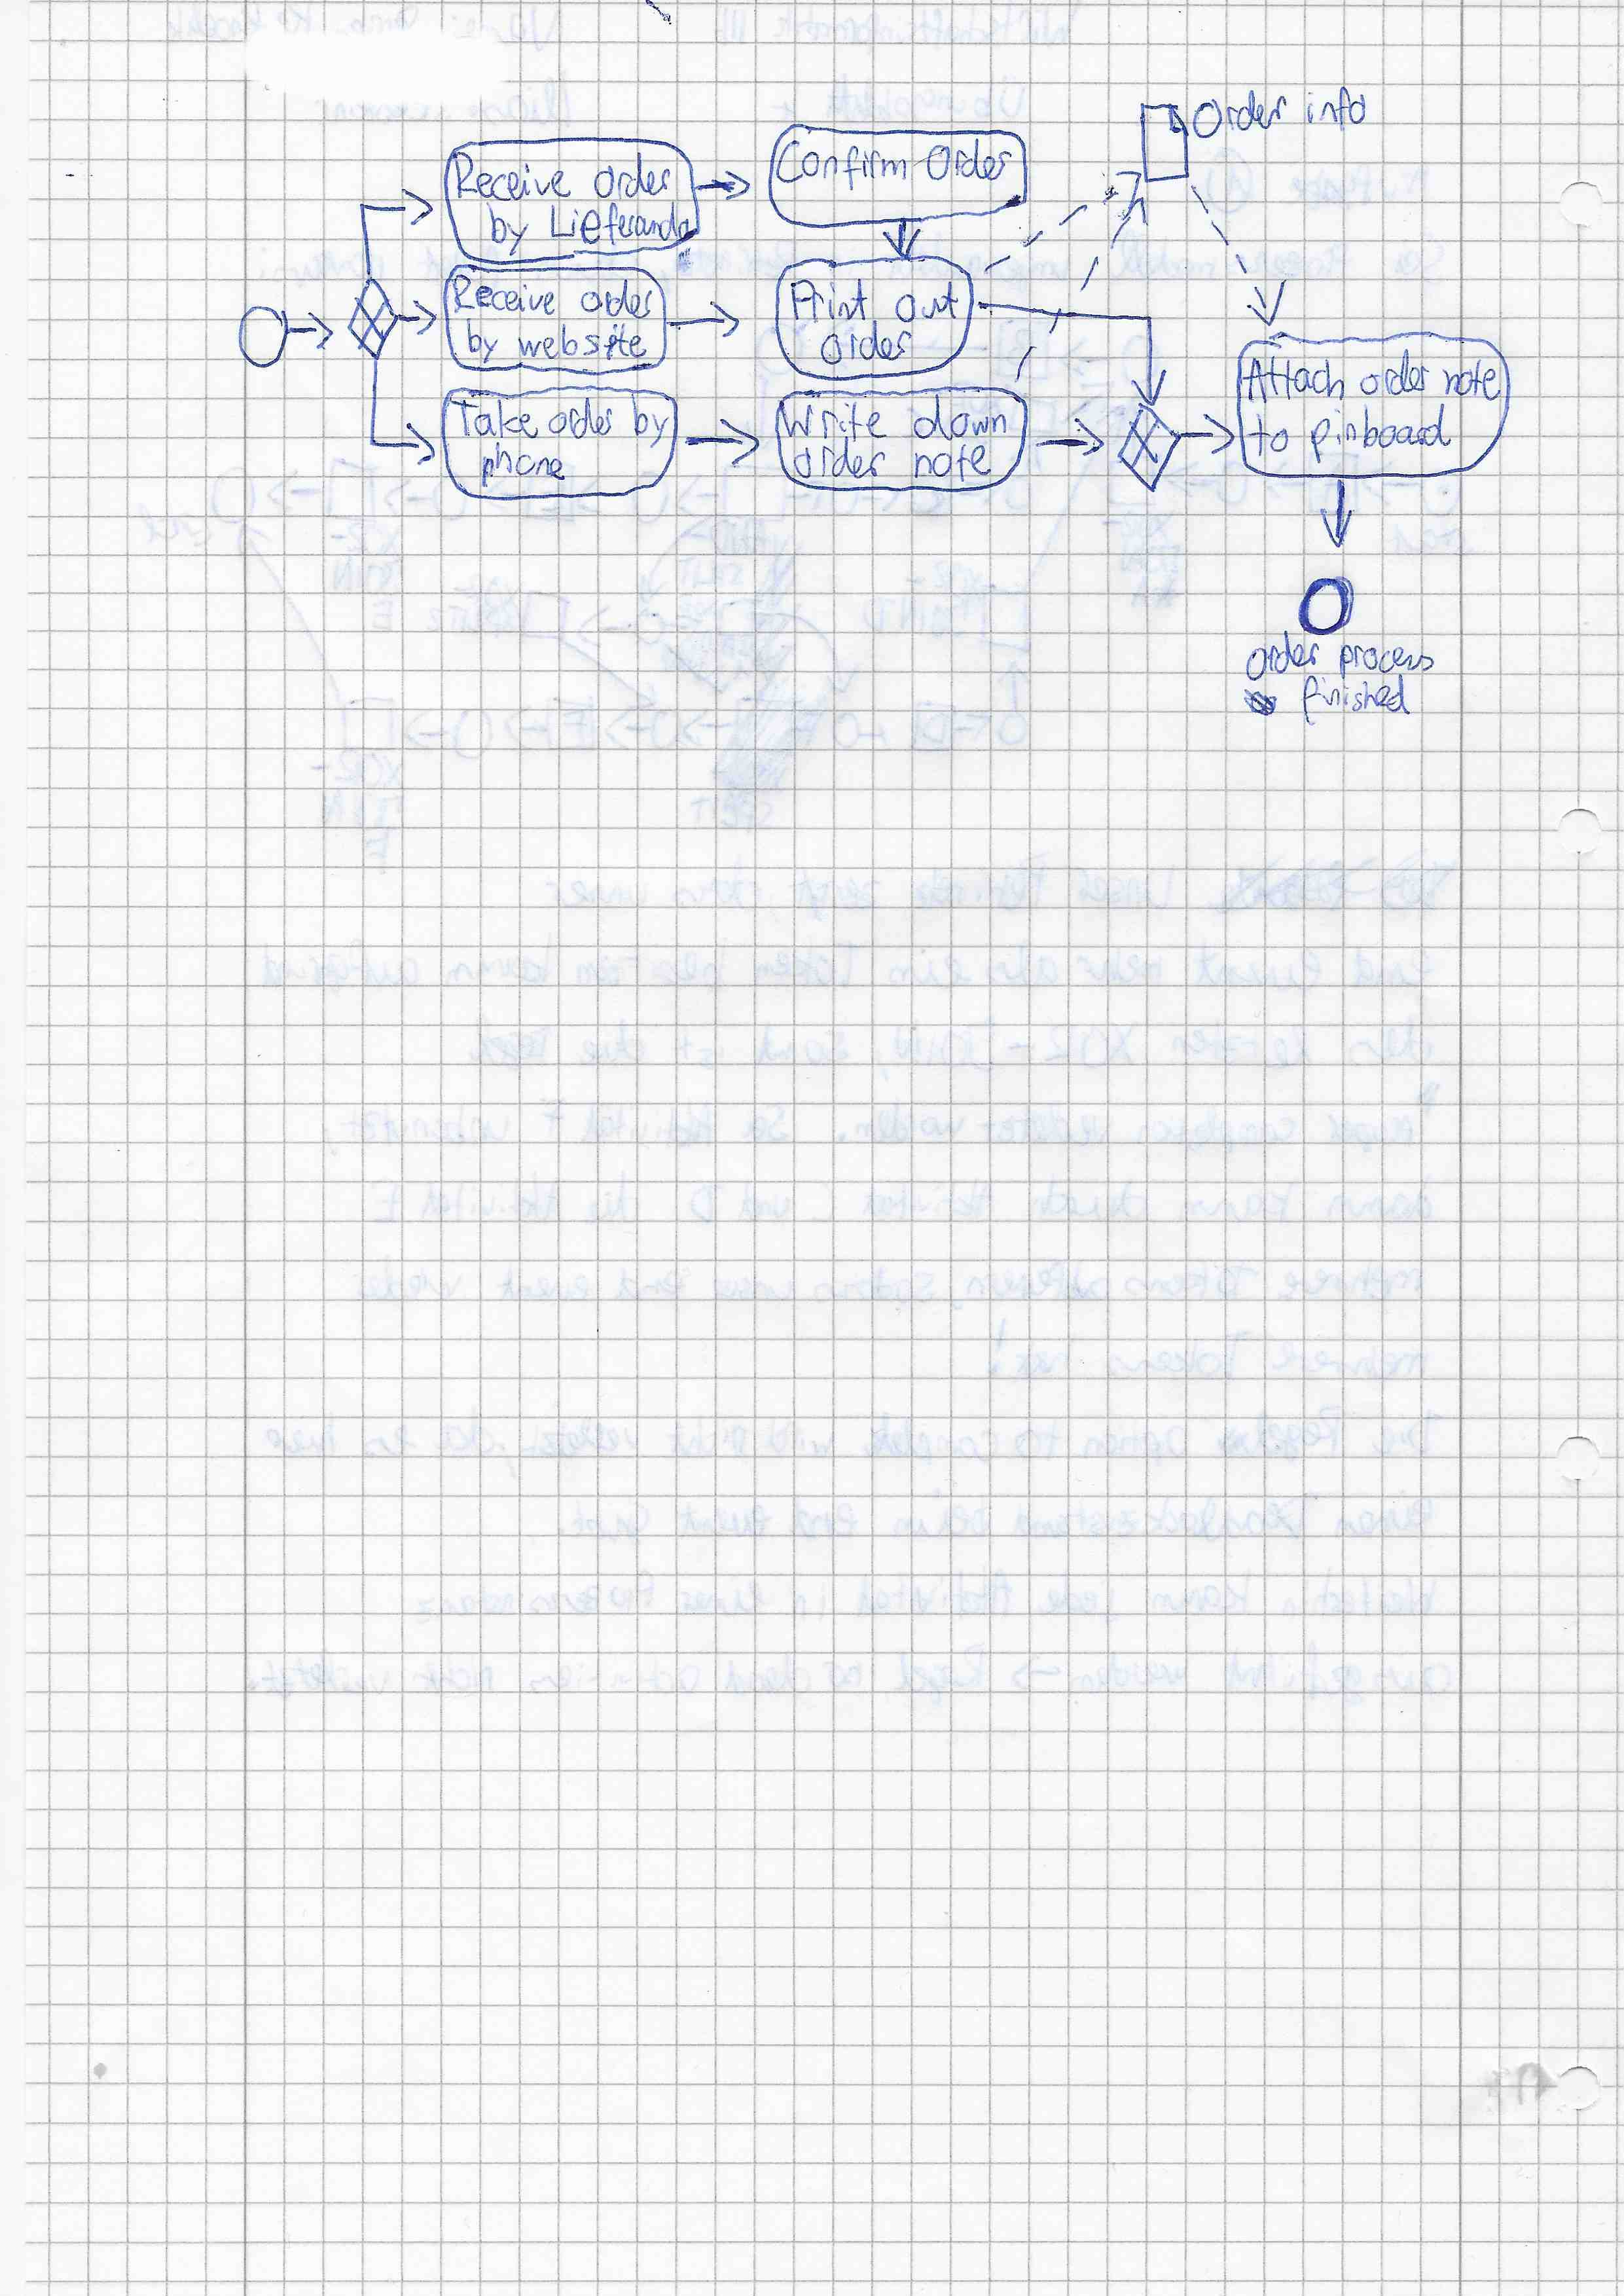Attach: (1244, 352, 1346, 403)
Confirm: (773, 135, 914, 192)
Lieferando: (548, 199, 692, 244)
Order: (1190, 88, 1292, 141), (926, 134, 1016, 183)
Print: (787, 278, 874, 322)
Receive: (452, 149, 575, 202), (450, 272, 559, 315)
Take: (450, 397, 540, 440)
Write: (779, 399, 889, 441)
by: (485, 200, 534, 253), (627, 390, 671, 447), (464, 316, 501, 364)
down: (909, 396, 1011, 441)
finished: (1301, 672, 1411, 724)
info: (1301, 83, 1373, 130)
note: (912, 441, 995, 482), (1439, 359, 1504, 401)
order: (819, 320, 916, 366), (793, 436, 891, 476), (1244, 631, 1322, 682), (592, 151, 675, 199), (1359, 348, 1431, 397), (578, 280, 654, 320), (547, 396, 615, 440)
out: (895, 280, 961, 325)
phone: (478, 441, 568, 487)
pinboard: (1306, 403, 1455, 464)
process: (1334, 642, 1438, 680)
to: (1248, 415, 1294, 457)
website: (517, 323, 645, 360)
